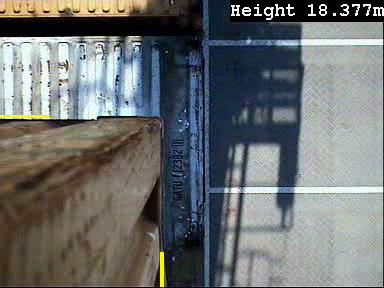groundmarker_2: (170, 165, 255, 200), (171, 232, 255, 267)
